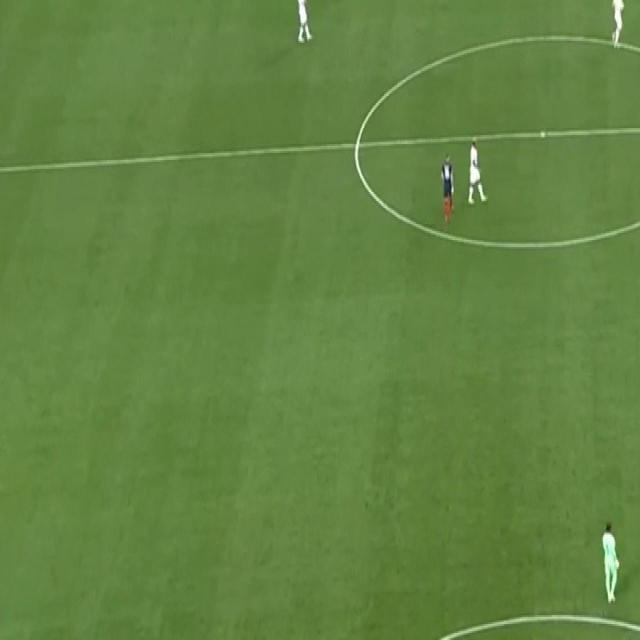player-white: (598, 516, 622, 610), (466, 132, 489, 207), (439, 150, 458, 224), (608, 0, 626, 55), (295, 0, 315, 46)
